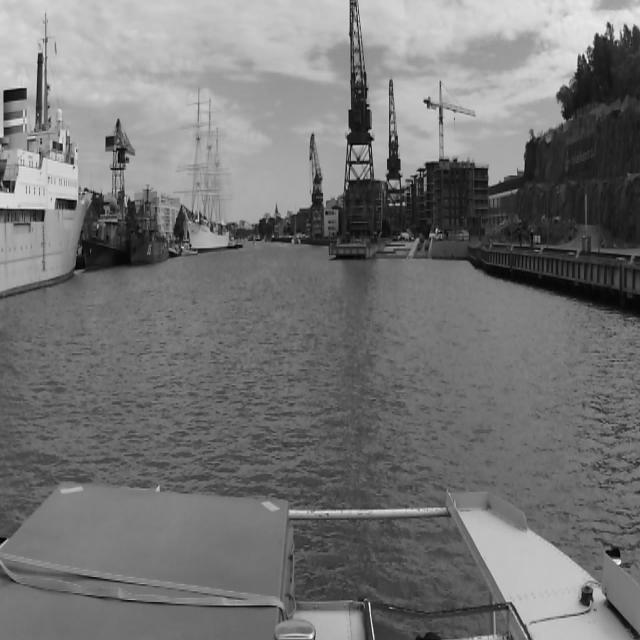ship: (3, 88, 91, 300), (176, 84, 229, 249), (83, 197, 123, 267), (126, 203, 168, 263), (293, 203, 301, 244), (181, 239, 197, 256), (169, 246, 179, 257)
